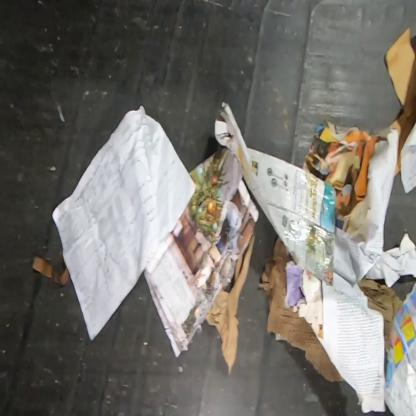cardboard: (214, 104, 336, 287), (258, 235, 344, 382), (385, 26, 416, 178), (358, 273, 404, 351)
